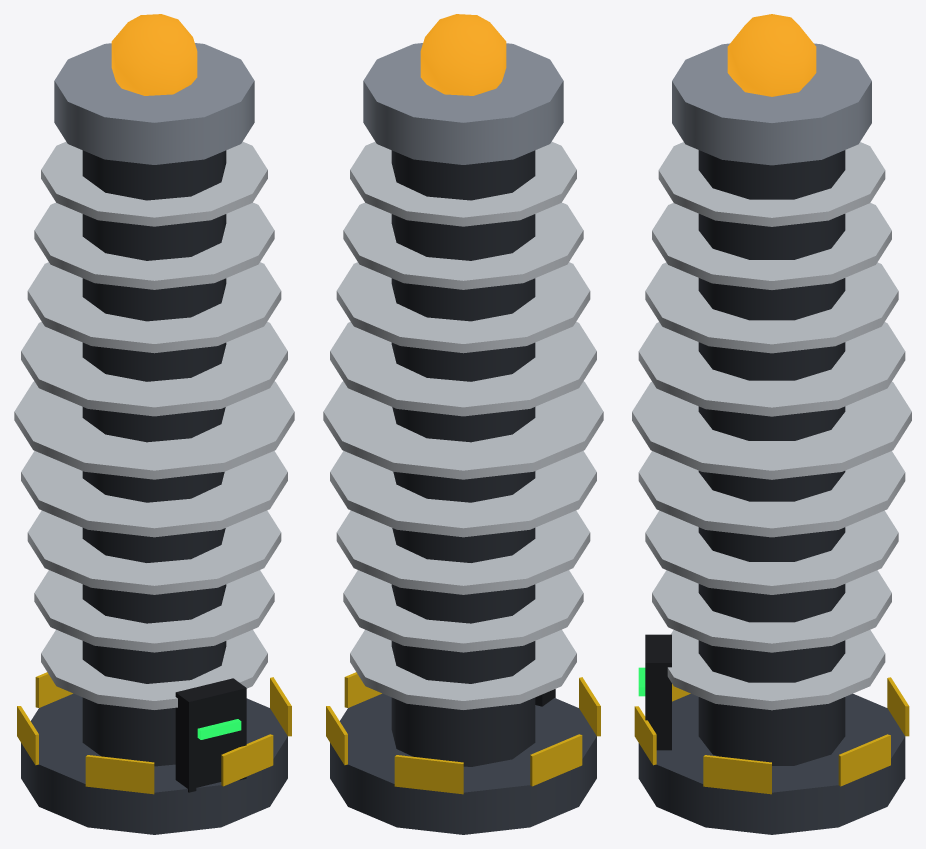
Rendered from generator_regulator_tower.glb.
3 renders of one model, left to right at view 1: azimuth 30°, elevation 25°; view 2: azimuth 150°, elevation 25°; view 3: azimuth 270°, elevation 25°, orthographic.
Parts seen in each view (by area): view 1: generator_regulator_tower; view 2: generator_regulator_tower; view 3: generator_regulator_tower.
Boxes of the visible parts, box(x1,y1,x2,y2) form: generator_regulator_tower: box(14, 14, 294, 834); generator_regulator_tower: box(323, 14, 603, 834); generator_regulator_tower: box(632, 14, 911, 834).
Bounding box in the file's own units: 0.84 × 2.52 × 0.84.
